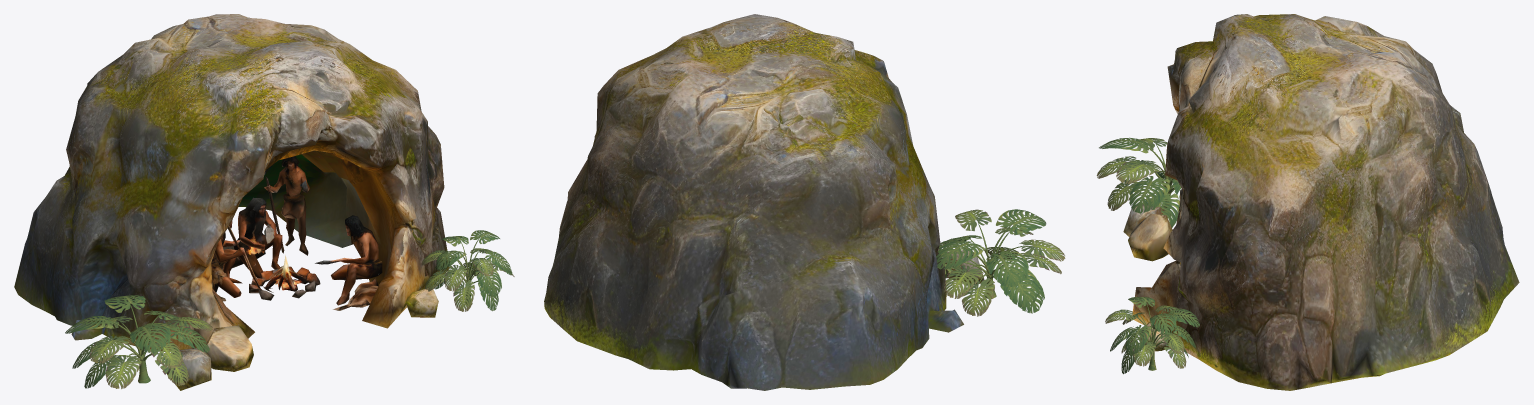
The model's file is Caverna.glb.
The picture shows the model from 3 angles, left to right: view 1: azimuth 30°, elevation 25°; view 2: azimuth 150°, elevation 25°; view 3: azimuth 270°, elevation 25°; orthographic projection.
Visible parts, largest first — view 1: meshes[0].001, meshes[0], Planta2, Planta1; view 2: meshes[0].001, Planta2; view 3: meshes[0].001, Planta2, Planta1.
Part boxes in pixels (x1=…): meshes[0].001: x1=14, y1=14, x2=449, y2=390; meshes[0]: x1=211, y1=156, x2=382, y2=310; Planta2: x1=65, y1=295, x2=212, y2=388; Planta1: x1=422, y1=230, x2=514, y2=311; meshes[0].001: x1=544, y1=14, x2=984, y2=390; Planta2: x1=936, y1=209, x2=1065, y2=316; meshes[0].001: x1=1123, y1=14, x2=1519, y2=390; Planta2: x1=1096, y1=137, x2=1181, y2=227; Planta1: x1=1105, y1=297, x2=1199, y2=374.
Bounding box in the file's own units: 1.63 × 0.9681 × 1.39.
Materials: 3 (3 with a texture image).
